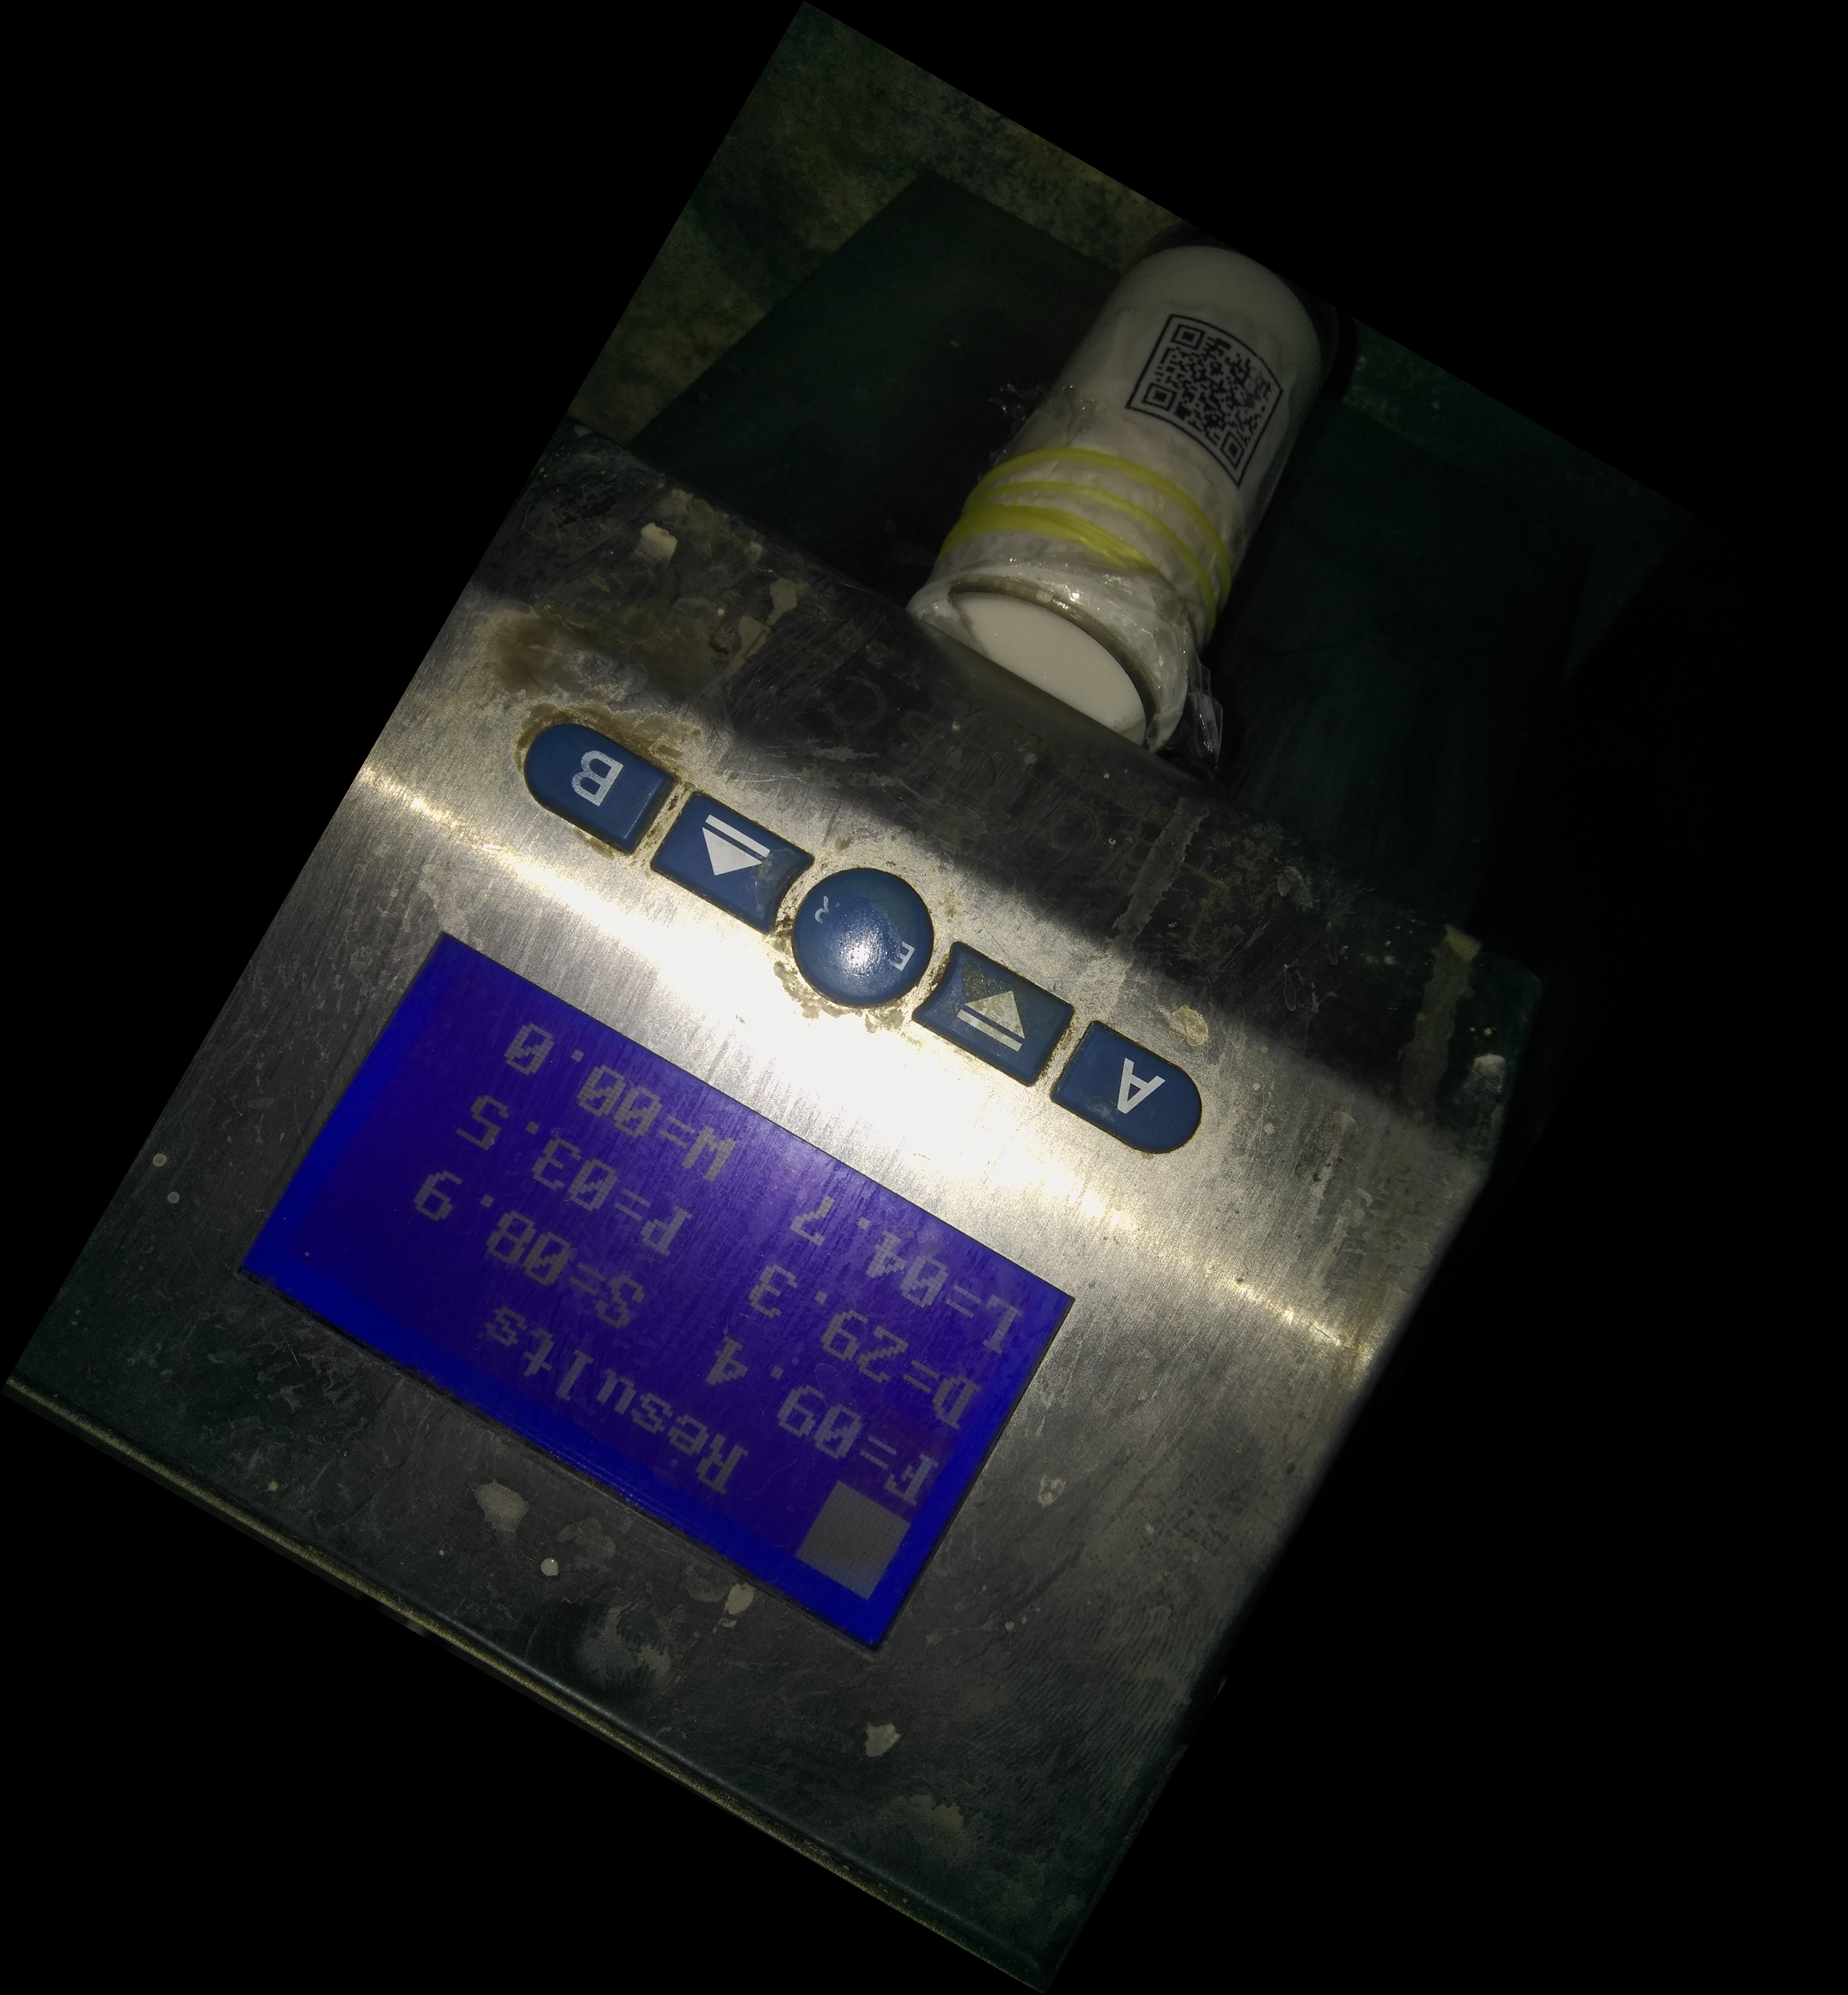lcd: (198, 918, 1113, 1703)
qr: (1121, 299, 1306, 499)
